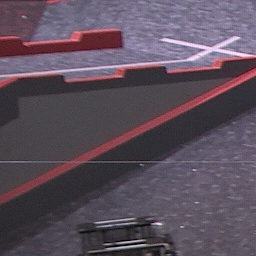Robot: (74, 216, 179, 256)
